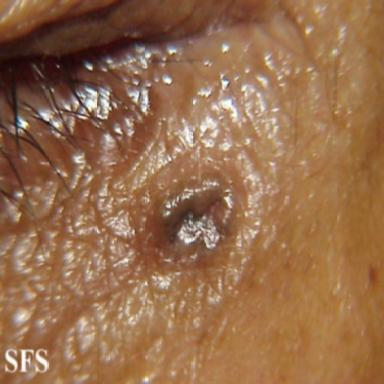basal-cell-carcinoma: (139, 151, 242, 271)
